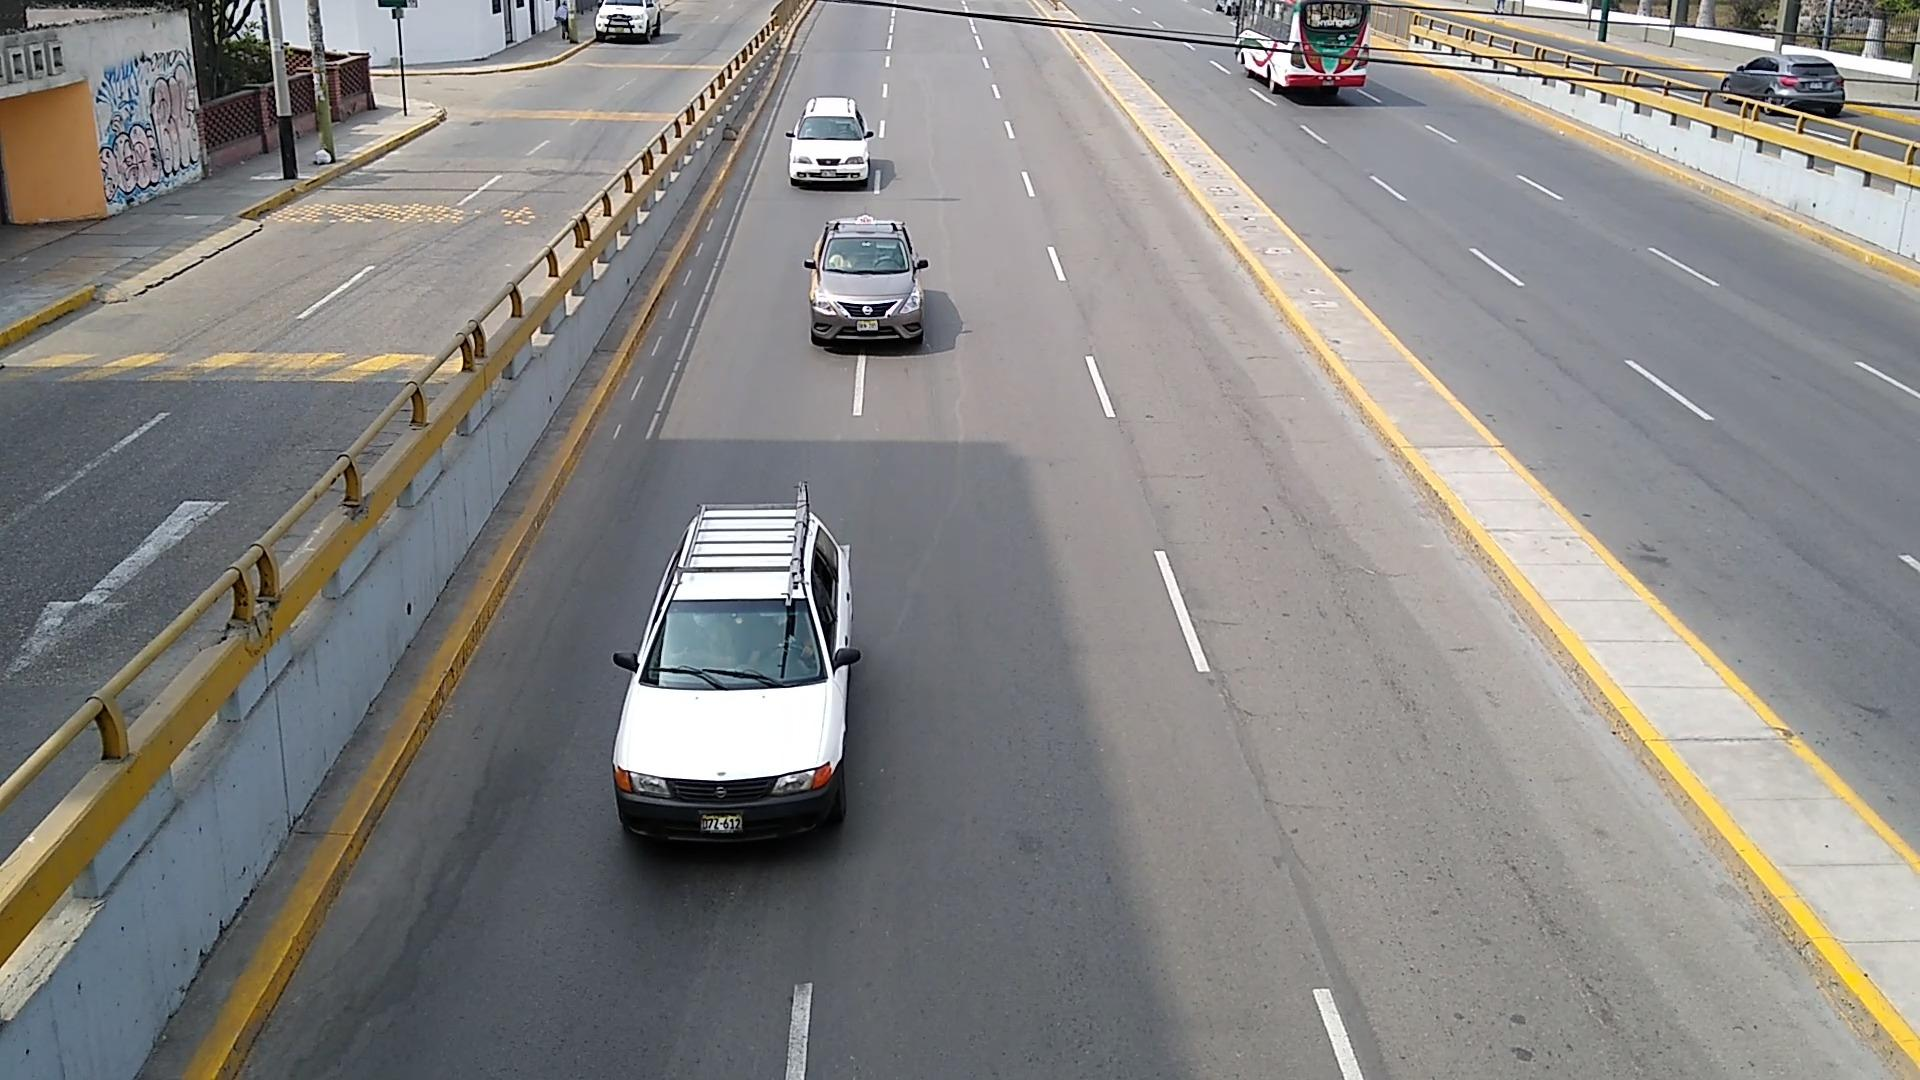bus: (1237, 0, 1373, 92)
car: (612, 488, 858, 840), (803, 214, 926, 345), (1721, 53, 1845, 116), (787, 98, 870, 187), (596, 0, 659, 41)
